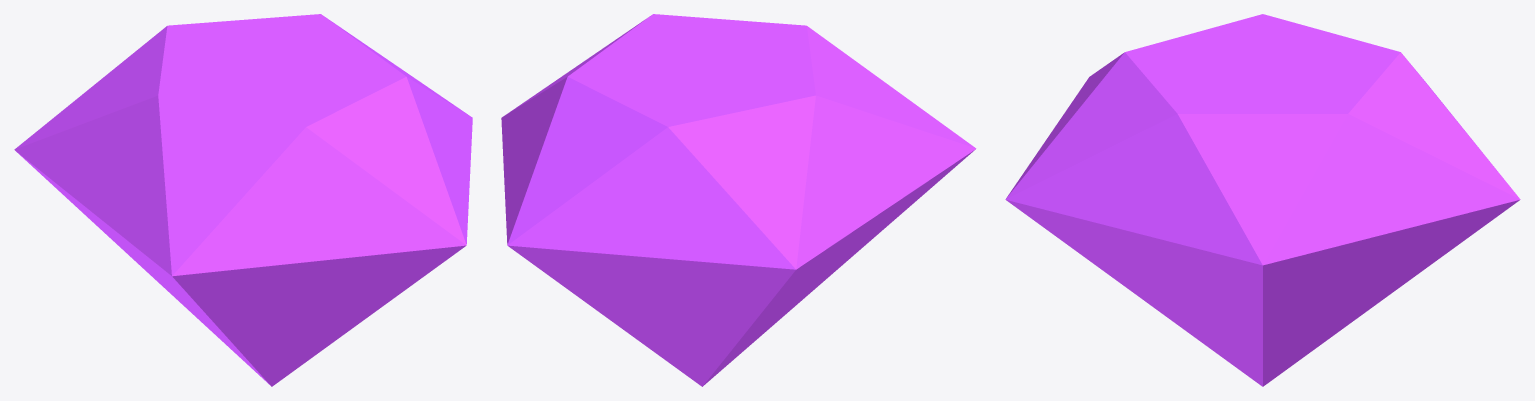
The model's file is gem_amethyst_chipped.glb.
3 renders of one model, left to right at view 1: azimuth 30°, elevation 25°; view 2: azimuth 150°, elevation 25°; view 3: azimuth 270°, elevation 25°, orthographic.
Parts seen in each view (by area): view 1: gem_amethyst_1; view 2: gem_amethyst_1; view 3: gem_amethyst_1.
Part boxes in pixels (bbox=[...]): gem_amethyst_1: bbox=[14, 14, 472, 386]; gem_amethyst_1: bbox=[501, 14, 976, 386]; gem_amethyst_1: bbox=[1005, 14, 1520, 386].
Bounding box in the file's own units: 0.0553 × 0.0435 × 0.0639.
